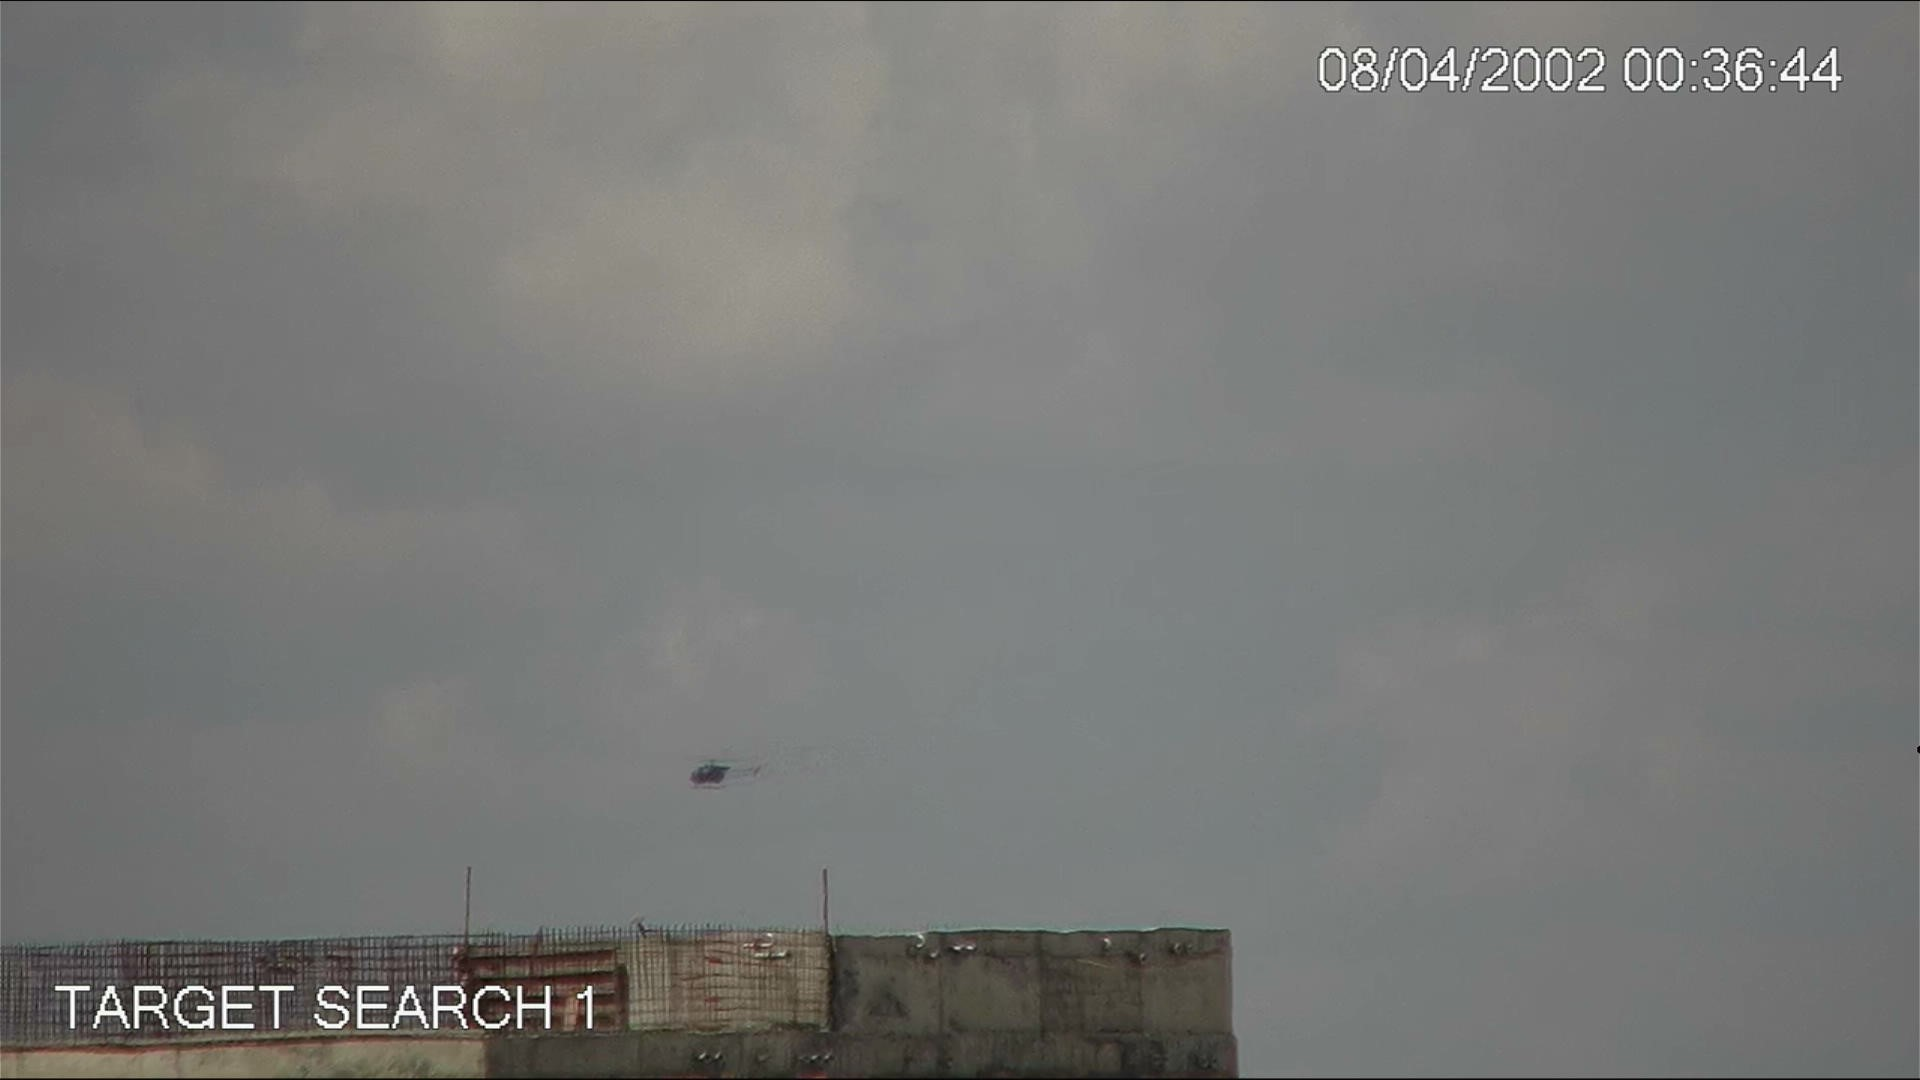SU_30: (684, 756, 765, 789)
